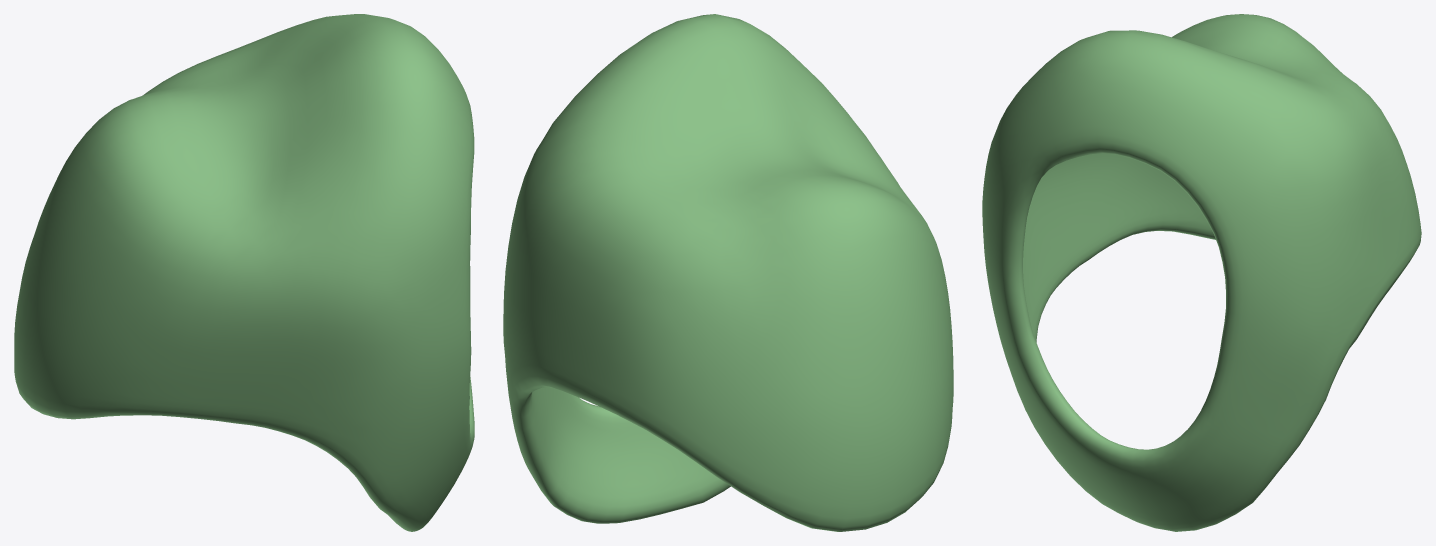
File: BR4_Frame_Classic.001.glb
3 renders of one model, left to right at view 1: azimuth 30°, elevation 25°; view 2: azimuth 150°, elevation 25°; view 3: azimuth 270°, elevation 25°, orthographic. The views are drawn at different scales.
Parts seen in each view (by area): view 1: BR4_Frame_Classic.001; view 2: BR4_Frame_Classic.001; view 3: BR4_Frame_Classic.001.
Boxes of the visible parts, x1,y1,x2,y2 form: BR4_Frame_Classic.001: (14,14,474,531); BR4_Frame_Classic.001: (503,14,953,531); BR4_Frame_Classic.001: (982,14,1421,531).
Bounding box in the file's own units: 0.832 × 0.961 × 0.8139.
